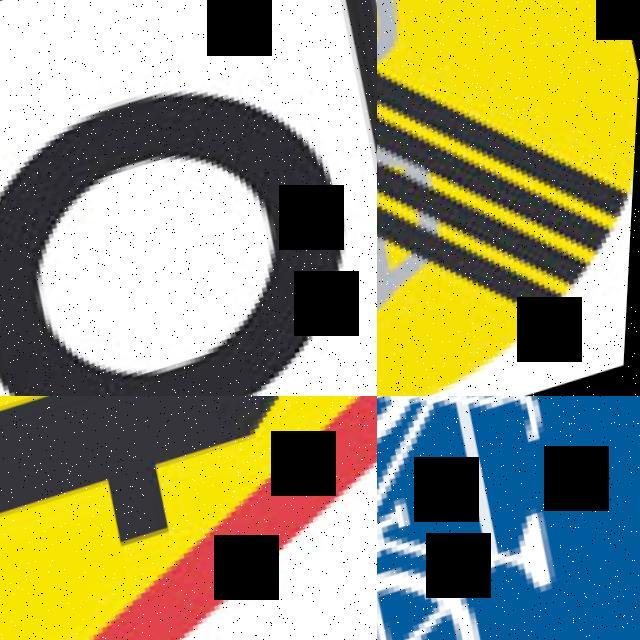108: (377, 0, 640, 396)
166: (0, 396, 377, 640)
68: (0, 0, 377, 396)
Cycle track: (377, 396, 640, 640)
